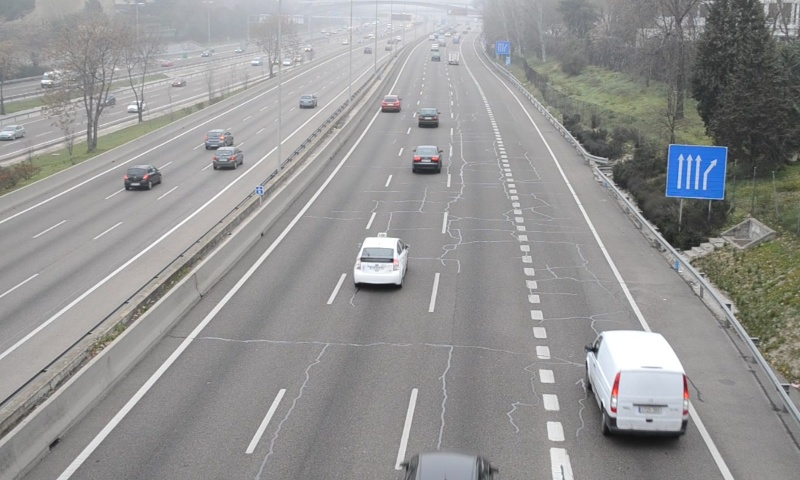car: (353, 238, 407, 286), (412, 144, 442, 172), (417, 106, 440, 128), (380, 94, 400, 111)
van: (586, 330, 689, 436)
